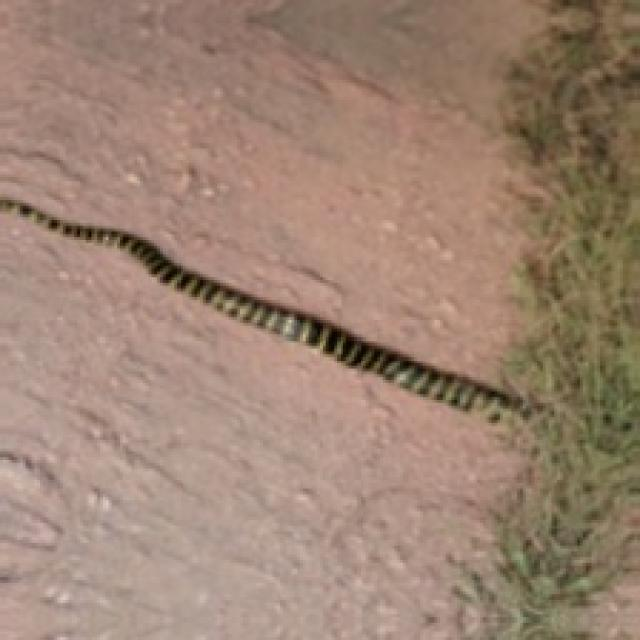mangrove cat snake: (0, 197, 537, 420)
